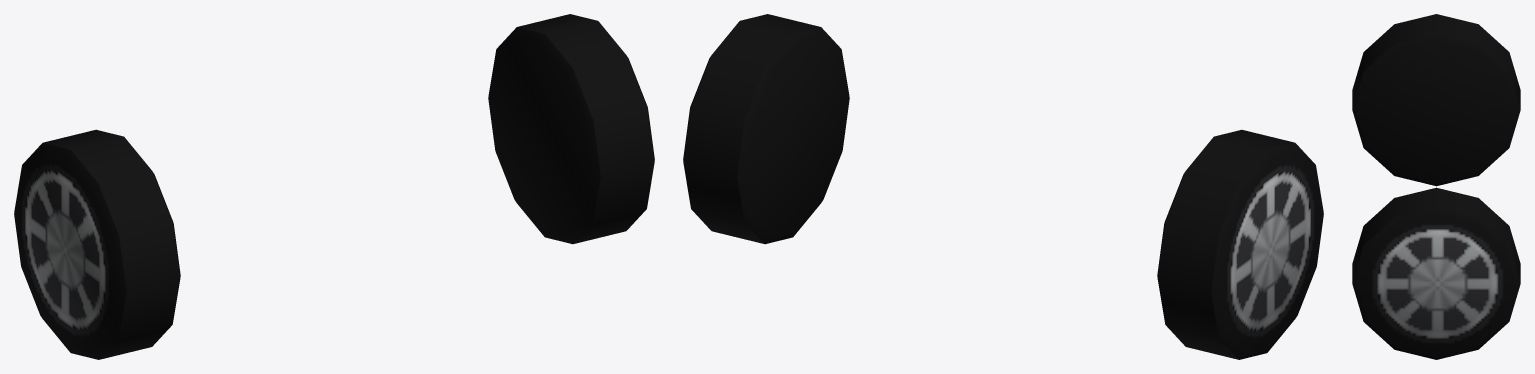
The model's file is classic_roadster_wheels_f.obj.
The picture shows the model from 3 angles, left to right: view 1: azimuth 30°, elevation 25°; view 2: azimuth 150°, elevation 25°; view 3: azimuth 270°, elevation 25°; orthographic projection. The views are drawn at different scales.
Parts seen in each view (by area): view 1: classic_roadster_wheels_f; view 2: classic_roadster_wheels_f; view 3: classic_roadster_wheels_f.
Part boxes in pixels (left/top/right/bottom): classic_roadster_wheels_f: left=14, top=14, right=654, bottom=359; classic_roadster_wheels_f: left=683, top=14, right=1323, bottom=359; classic_roadster_wheels_f: left=1352, top=14, right=1520, bottom=359.
Bounding box in the file's own units: 1.61 × 0.5817 × 0.5817.
1 material, 1 textured.
